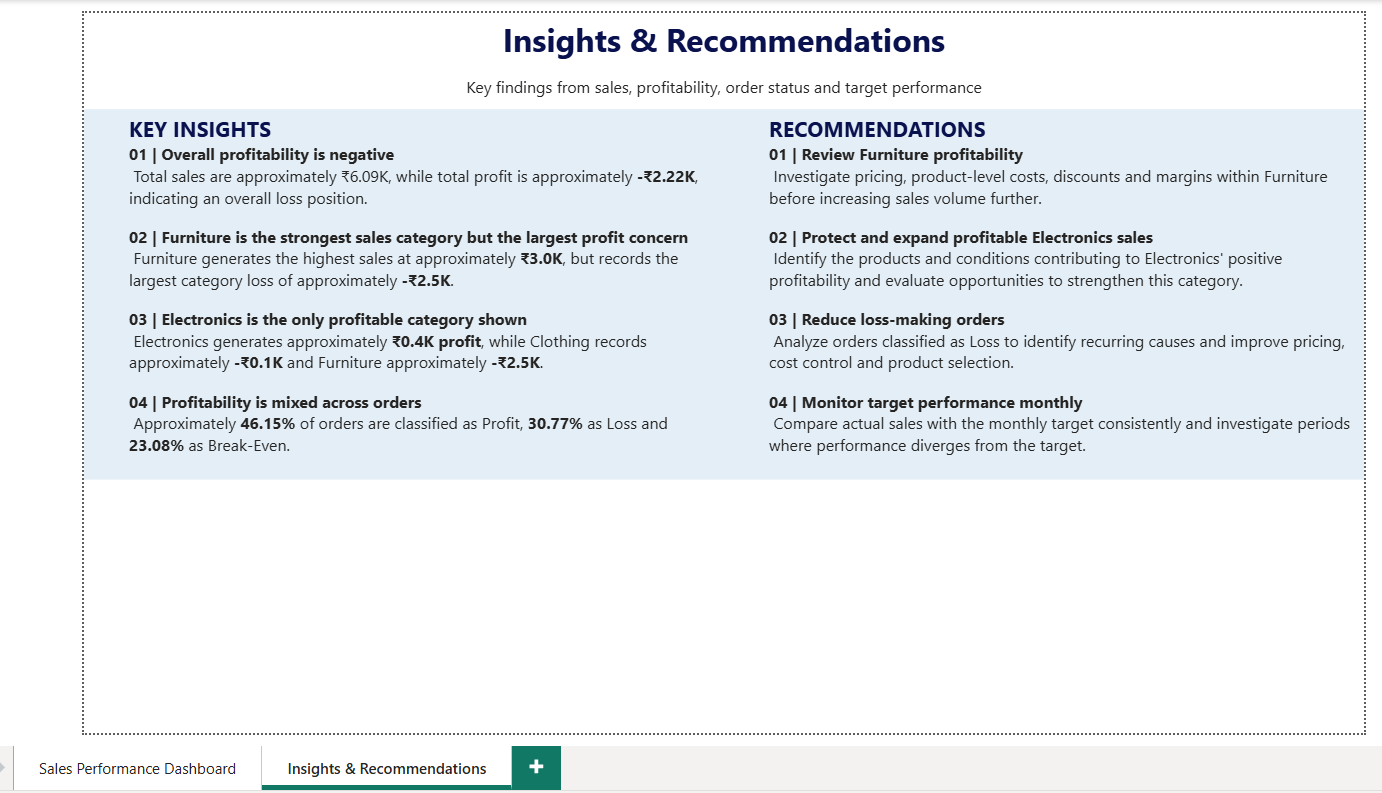

What the dashboard file says about the page in this screenshot:
{"tool":"powerbi","page":{"name":"Insights & Recommendations","canvas":[1280,720],"ordinal":1},"visuals":[{"type":"textbox","box":[0,57.5,1280,38.8],"z":0},{"type":"textbox","box":[0,96.2,640,370],"z":1000},{"type":"textbox","box":[640,96.2,640,370],"z":2000},{"type":"textbox","box":[0,0,1280,66.2],"z":3000}]}

Visuals, with their boxes on the page's 1280x720 design canvas (x1, y1, x2, y2). These are canvas units, not pixel positions in the 1382x793 screenshot, which may show the page scaled, cropped or inside an application window:
textbox: (0, 58, 1280, 96)
textbox: (0, 96, 640, 466)
textbox: (640, 96, 1280, 466)
textbox: (0, 0, 1280, 66)
